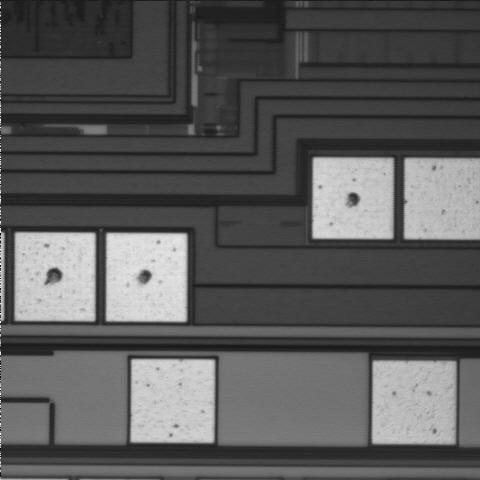pad: (106, 233, 187, 321), (15, 233, 95, 321), (131, 360, 214, 442), (372, 361, 455, 443), (313, 158, 393, 238)
